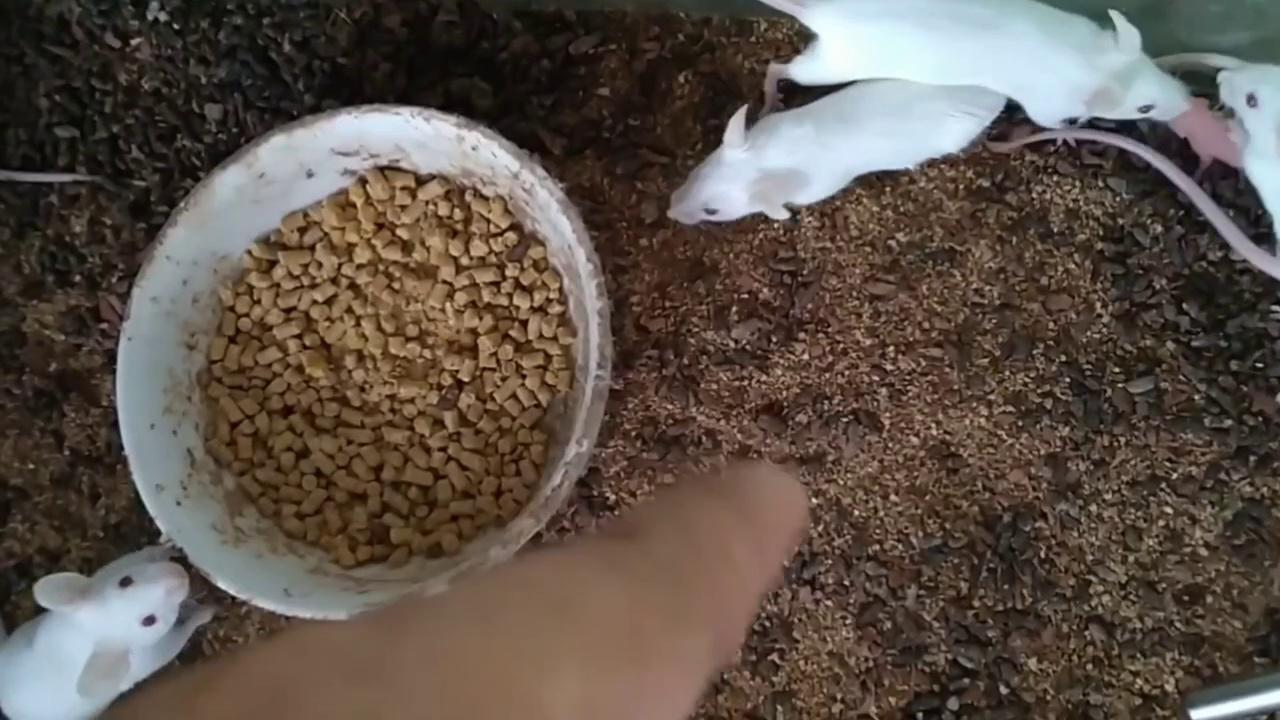rat: (761, 0, 1189, 144), (667, 80, 1009, 221), (0, 540, 216, 718), (1217, 64, 1280, 240)
